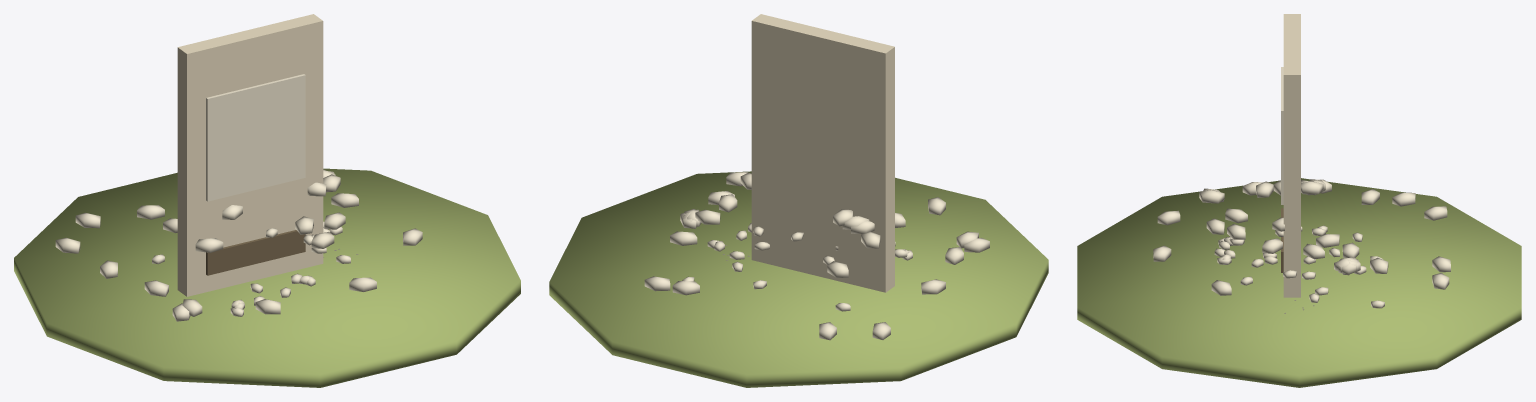
The model's file is Nut_Sesame.fbx.
3 renders of one model, left to right at view 1: azimuth 30°, elevation 25°; view 2: azimuth 150°, elevation 25°; view 3: azimuth 270°, elevation 25°, orthographic. The views are drawn at different scales.
Visible parts, largest first — view 1: Nut_Sesame__Stack, Nut_Sesame__Seed, Nut_Sesame; view 2: Nut_Sesame__Stack, Nut_Sesame__Seed, Nut_Sesame; view 3: Nut_Sesame__Stack, Nut_Sesame__Seed, Nut_Sesame.
Boxes of the visible parts, bbox=[...] form: Nut_Sesame__Stack: bbox=[14, 168, 520, 387]; Nut_Sesame__Seed: bbox=[177, 14, 358, 296]; Nut_Sesame: bbox=[152, 221, 350, 316]; Nut_Sesame__Stack: bbox=[549, 171, 1048, 387]; Nut_Sesame__Seed: bbox=[723, 14, 894, 292]; Nut_Sesame: bbox=[682, 223, 912, 311]; Nut_Sesame__Stack: bbox=[1077, 178, 1521, 387]; Nut_Sesame__Seed: bbox=[1281, 14, 1314, 313]; Nut_Sesame: bbox=[1214, 225, 1384, 308].
Bounding box in the file's own units: 0.162 × 0.09 × 0.1541.
